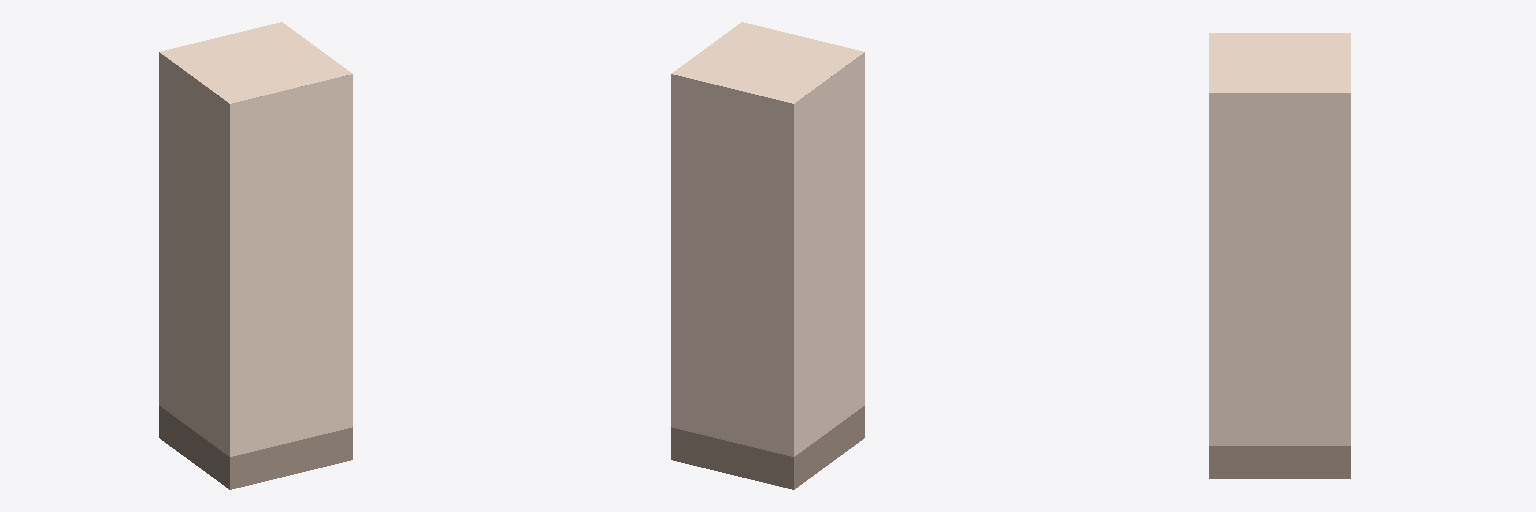
3 renders of one model, left to right at view 1: azimuth 30°, elevation 25°; view 2: azimuth 150°, elevation 25°; view 3: azimuth 270°, elevation 25°, orthographic.
Visible parts, largest first — view 1: Cube; view 2: Cube; view 3: Cube.
Boxes of the visible parts, x1,y1,x2,y2 form: Cube: [159, 22, 352, 489]; Cube: [671, 22, 864, 489]; Cube: [1209, 33, 1350, 478].
Bounding box in the file's own units: 2 × 6 × 2.
1 materials, 1 textured.